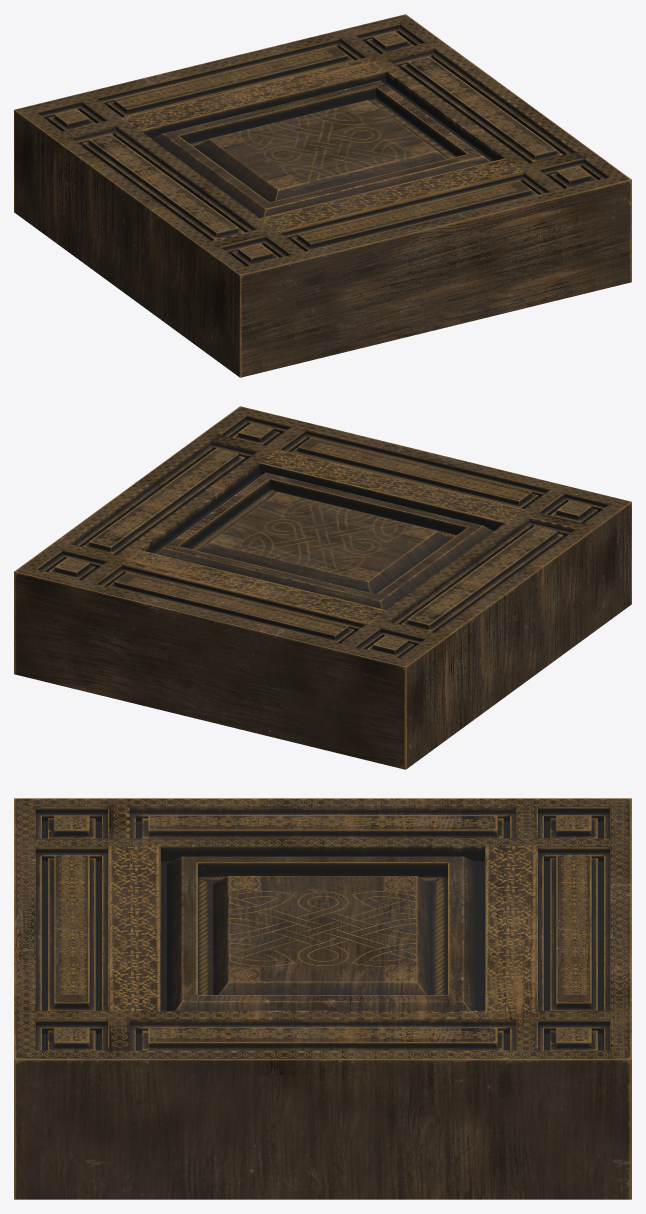
The model's file is SM_RoofTile.fbx.
3 views of the same model, one above another, from view 1: azimuth 30°, elevation 25°; view 2: azimuth 150°, elevation 25°; view 3: azimuth 270°, elevation 25° (orthographic). The views are drawn at different scales.
Parts seen in each view (by area): view 1: SM_RoofTile_LOD0; view 2: SM_RoofTile_LOD0; view 3: SM_RoofTile_LOD0.
Part boxes in pixels (<box>): SM_RoofTile_LOD0: <box>14,14,631,377</box>; SM_RoofTile_LOD0: <box>14,406,631,769</box>; SM_RoofTile_LOD0: <box>14,798,631,1199</box>.
Bounding box in the file's own units: 200 × 200 × 50.
1 material, 1 textured.
